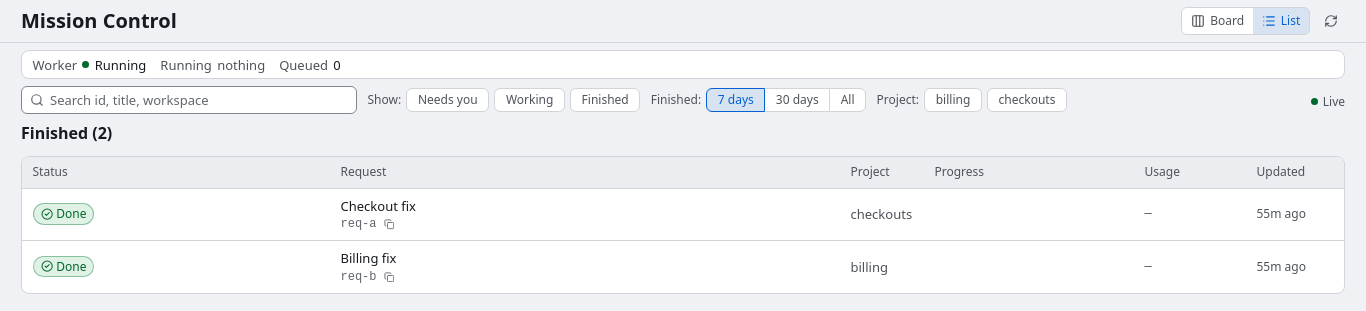
Test: a project filter chip hides requests from other projects
Expected: the link "Checkout fix" is shown, [340,196,416,214]
Expected: the link "Billing fix" is shown, [340,249,396,267]
Click the button "checkouts": (1027, 100) [987,88,1067,112]
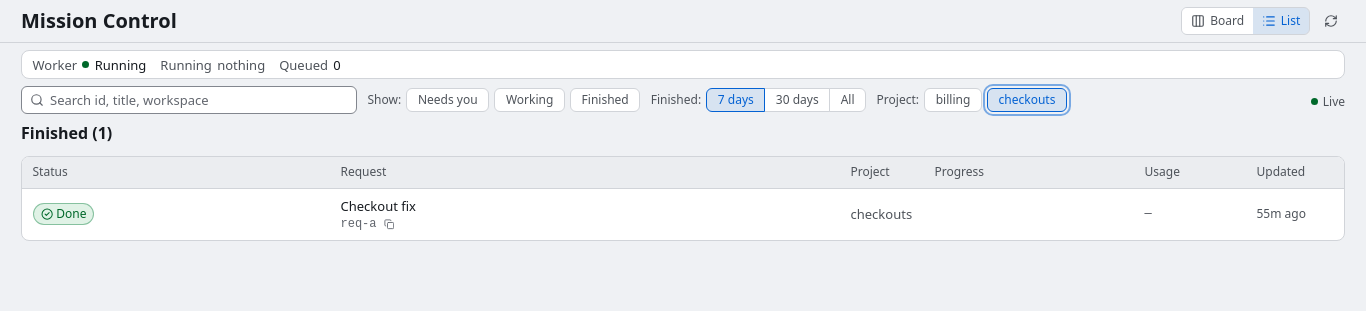
Expected: the link "Checkout fix" is shown, [340,196,416,214]
Now the link "Billing fix" is gone
